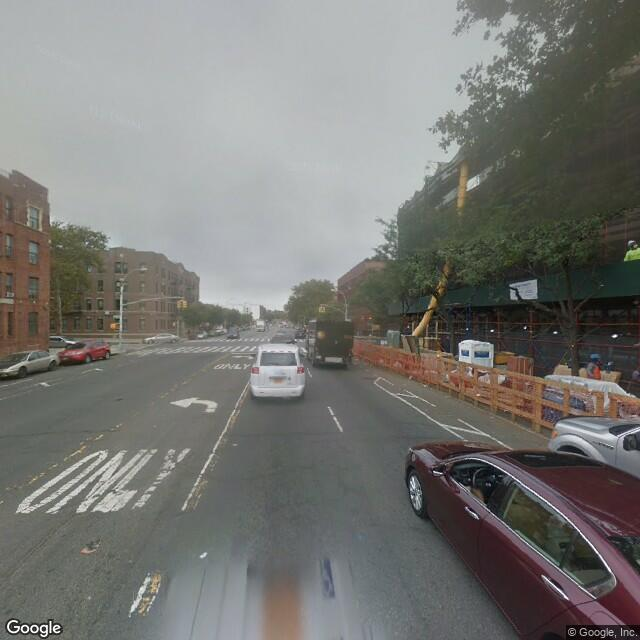litter: (80, 540, 103, 556), (198, 550, 209, 562)
